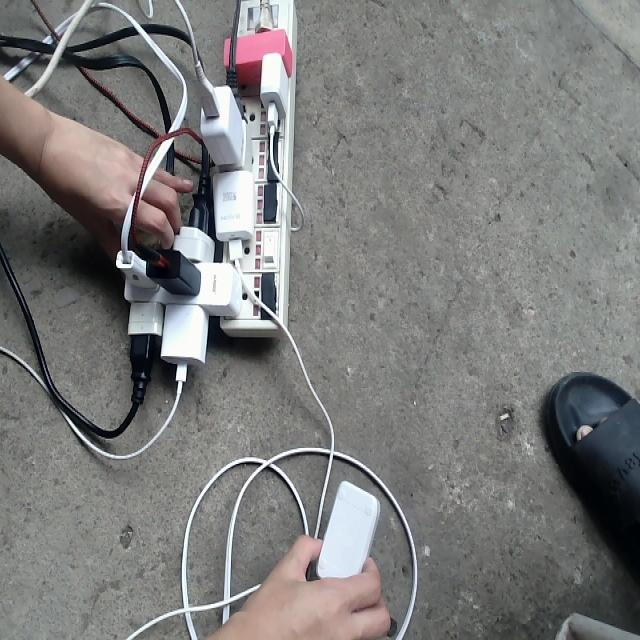-: (110, 0, 299, 375)
